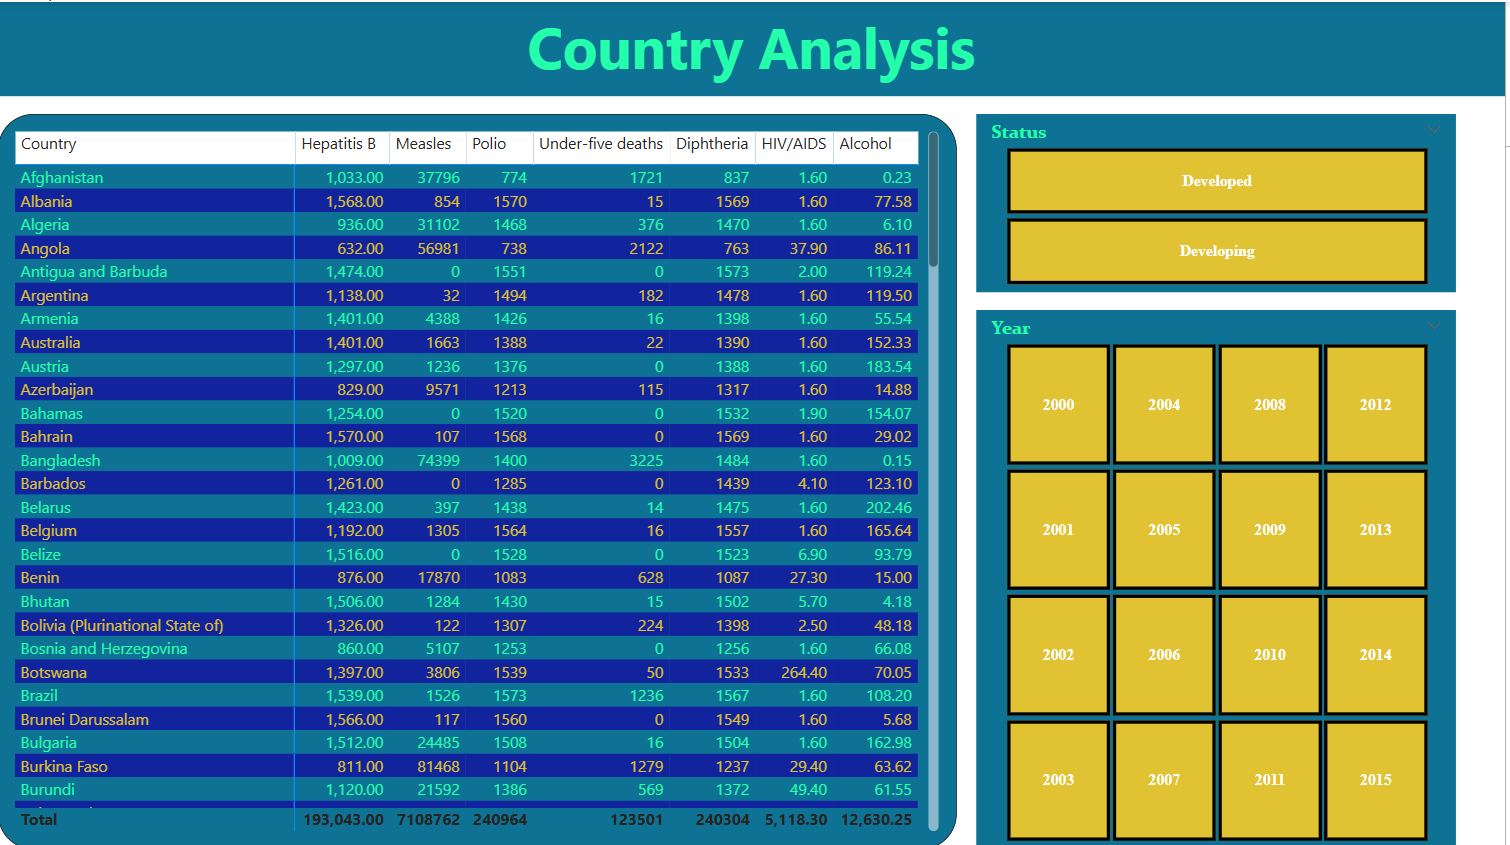

Layout of this report page (visuals, bound fields, positions):
{"tool":"powerbi","page":{"name":"Page 3","canvas":[1280,720],"ordinal":2},"visuals":[{"type":"pivotTable","fields":{"Rows":["Life Expectancy Data.Country"],"Values":["Sum(Life Expectancy Data.Hepatitis B)","Sum(Life Expectancy Data.Measles )","Sum(Life Expectancy Data.Polio)","Sum(Life Expectancy Data.under-five deaths )","Sum(Life Expectancy Data.Diphtheria )","Sum(Life Expectancy Data. HIV/AIDS)","Sum(Life Expectancy Data.Alcohol)"]},"box":[0,95.1,814.5,624.3],"z":0},{"type":"actionButton","box":[0,0,100,40],"z":1},{"type":"slicer","fields":{"Values":["Life Expectancy Data.Status"]},"box":[830.9,95.1,407.3,151.6],"z":2},{"type":"slicer","fields":{"Values":["Life Expectancy Data.Year"]},"box":[830.9,261.6,407.3,457.8],"z":3},{"type":"textbox","box":[0,0,1279.8,80.3],"z":4}]}

Visuals, with their boxes in screenshot pixels (x1, y1, x2, y2), scaled from the page's 1280x720 canvas onto the 1510x845 screenshot:
pivotTable - Life Expectancy Data.Country x Sum(Life Expectancy Data.Hepatitis B): box(0, 112, 961, 844)
actionButton: box(0, 0, 118, 47)
slicer - Life Expectancy Data.Status: box(980, 112, 1461, 290)
slicer - Life Expectancy Data.Year: box(980, 307, 1461, 844)
textbox: box(0, 0, 1509, 94)
